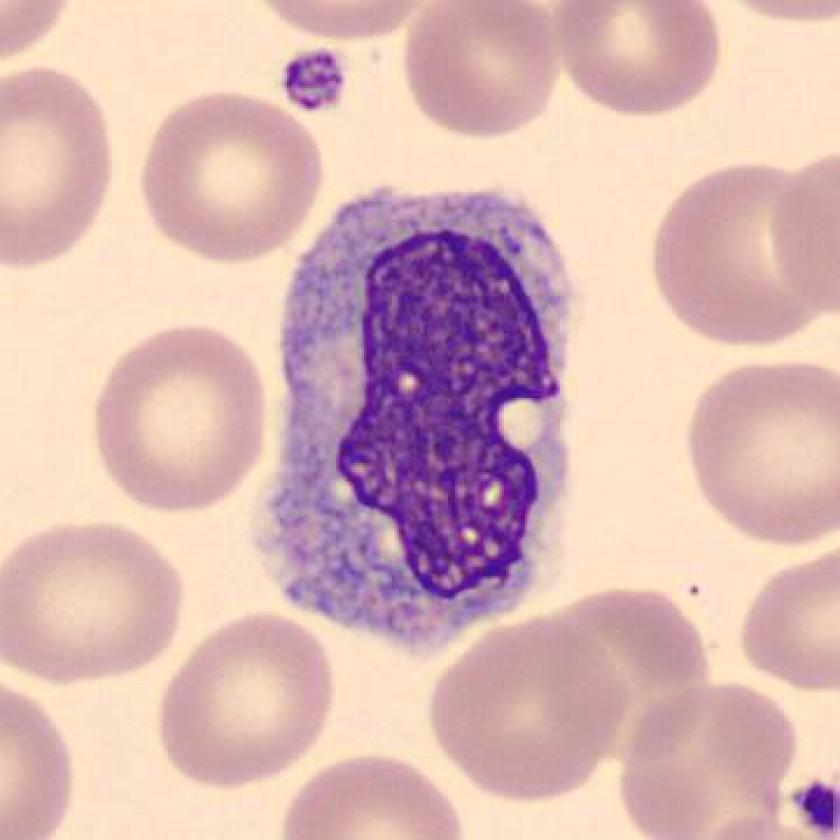monocyte: (239, 170, 615, 677)
